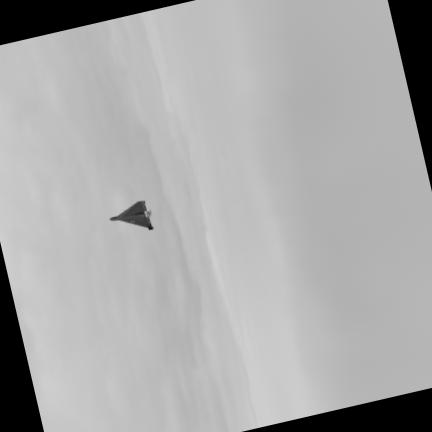Shahed: (110, 200, 153, 229)
